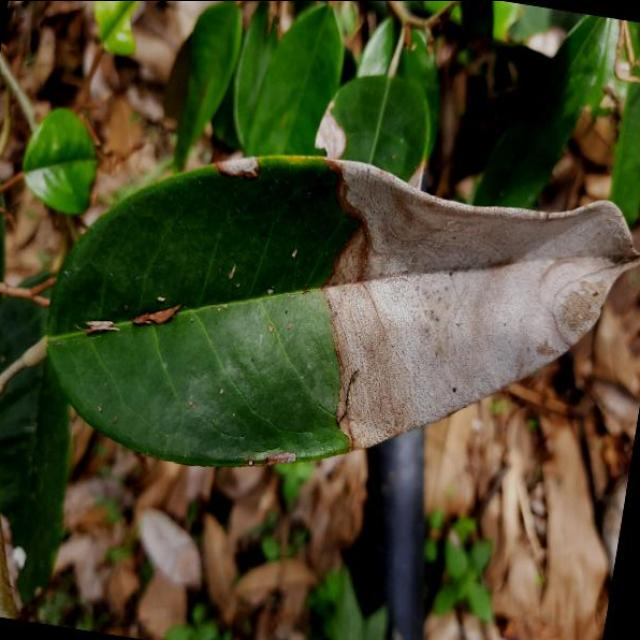Leaf Blight: (3, 101, 640, 543)
